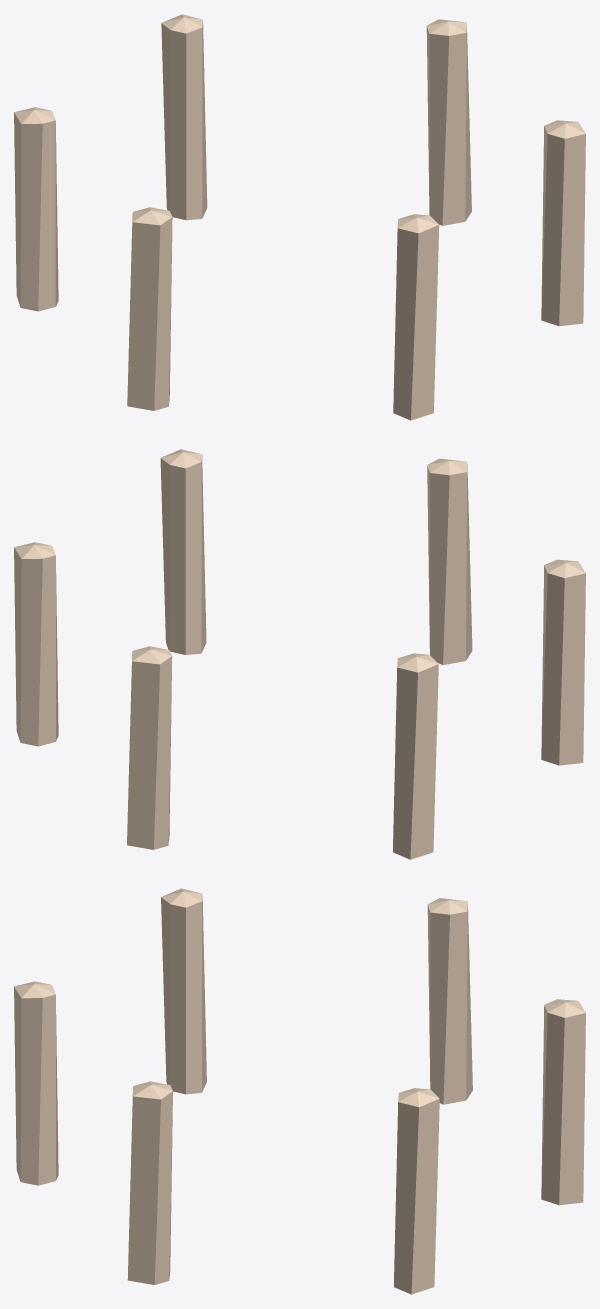
Rendered from Pipe_Rivets.fbx.
3 views of the same model, one above another, from view 1: azimuth 30°, elevation 25°; view 2: azimuth 150°, elevation 25°; view 3: azimuth 270°, elevation 25° (orthographic).
Parts seen in each view (by area): view 1: Bolts; view 2: Bolts; view 3: Bolts.
Part boxes in pixels (x1,y1,x2,y2): Bolts: (14, 14, 585, 420); Bolts: (14, 449, 585, 859); Bolts: (14, 888, 585, 1294).
Bounding box in the file's own units: 208 × 88.38 × 226.
